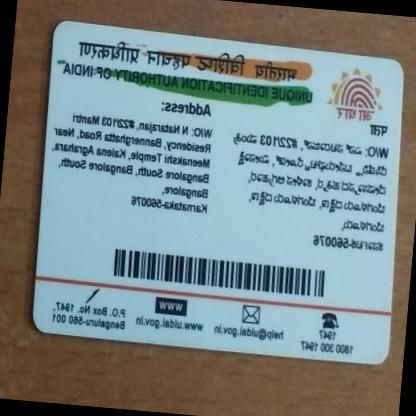aadhaar_card: (26, 22, 415, 371)
